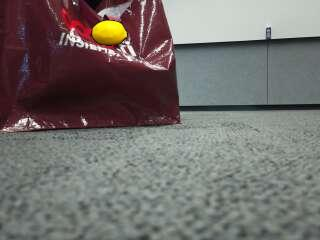lemon: (94, 21, 128, 44)
